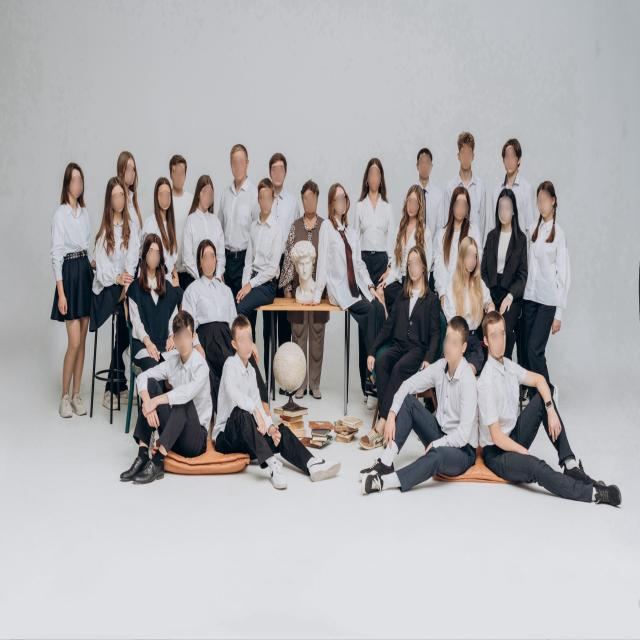Person: (475, 289, 631, 532), (202, 307, 344, 502), (348, 318, 477, 506), (118, 301, 208, 498), (45, 152, 102, 439), (516, 169, 572, 378), (90, 180, 138, 416), (352, 156, 400, 306), (448, 226, 494, 370), (432, 176, 482, 294), (486, 188, 526, 332), (320, 182, 360, 325), (130, 227, 172, 356), (192, 242, 244, 345), (250, 179, 286, 318), (220, 141, 256, 265), (391, 178, 436, 276), (286, 169, 328, 263), (165, 149, 192, 272), (412, 136, 442, 242), (264, 149, 298, 239), (116, 146, 149, 234), (186, 178, 227, 241), (458, 124, 490, 200), (148, 178, 175, 253), (436, 182, 468, 242)
